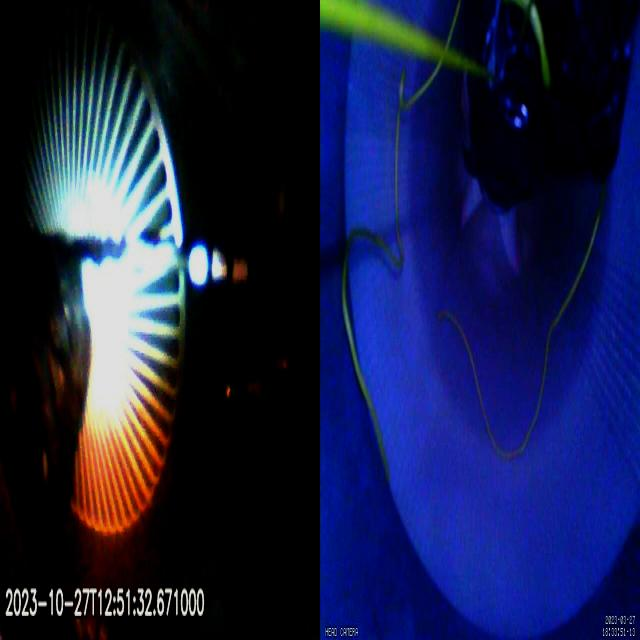white-dots: (188, 245, 248, 288)
